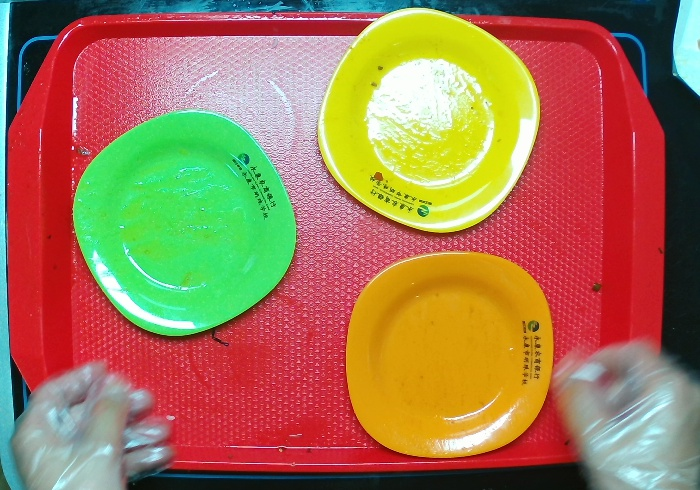YKMZ-Huang_Se_Fang_Die: (311, 1, 542, 238)
YKMZ-Ju_Se_Fang_Die: (339, 246, 559, 464)
YKMZ-Lv_Se_Fang_Die: (68, 106, 303, 344)
